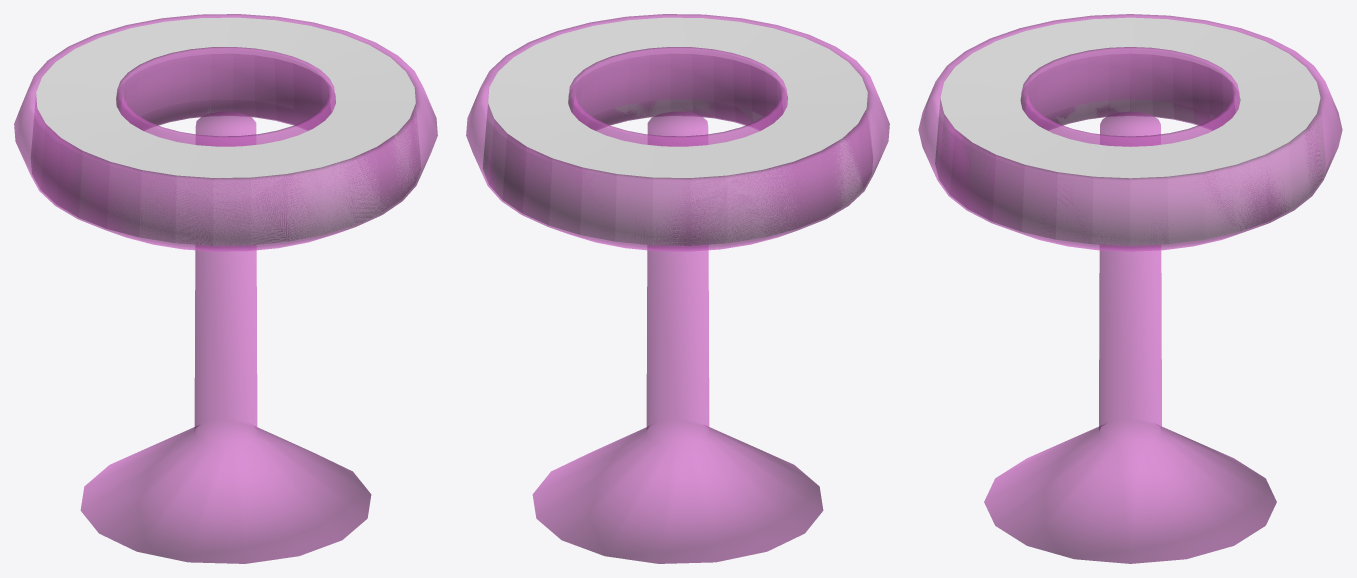
File: glass5.fbx
3 renders of one model, left to right at view 1: azimuth 30°, elevation 25°; view 2: azimuth 150°, elevation 25°; view 3: azimuth 270°, elevation 25°, orthographic.
Visible parts, largest first — view 1: glass6, liquid6; view 2: glass6, liquid6; view 3: glass6, liquid6.
Part boxes in pixels (<box>): glass6: <box>14,14,437,563</box>; liquid6: <box>30,17,420,245</box>; glass6: <box>466,14,889,563</box>; liquid6: <box>482,17,872,245</box>; glass6: <box>918,14,1342,563</box>; liquid6: <box>935,17,1325,245</box>.
Bounding box in the file's own units: 234 × 249 × 234.
